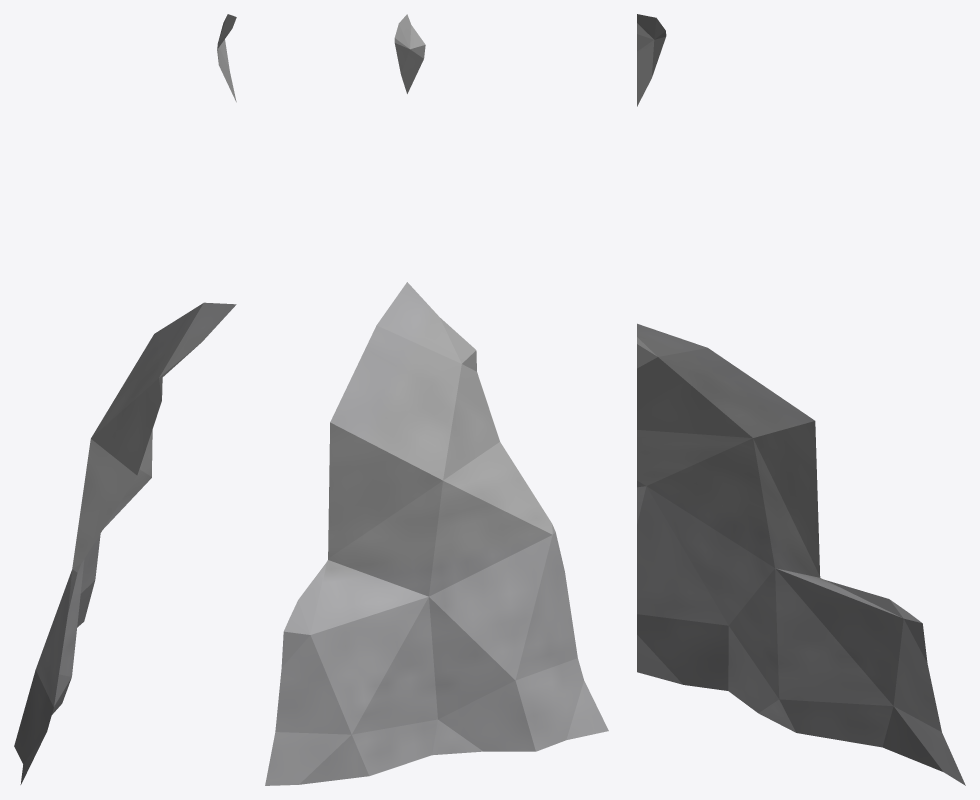
3 views of the same model, side by side, from view 1: azimuth 30°, elevation 25°; view 2: azimuth 150°, elevation 25°; view 3: azimuth 270°, elevation 25° (orthographic). The views are drawn at different scales.
Size of the model in its own units: 0.053 by 0.1678 by 0.0648.
1 material, 1 textured.
